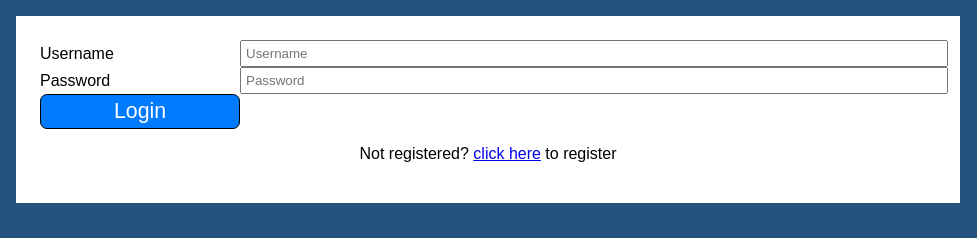
Test: LoginScreen › shows a validation error and does not log in for a short username
In the field labelled "Username": (594, 54) [240,40,948,67], type "ab"
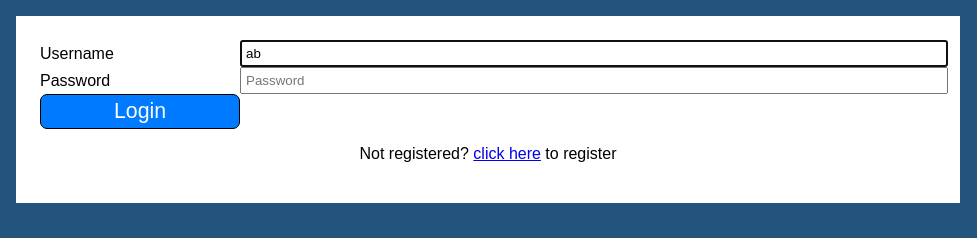
In the password field labelled "Password": (594, 80) [240,67,948,94], type "password123"
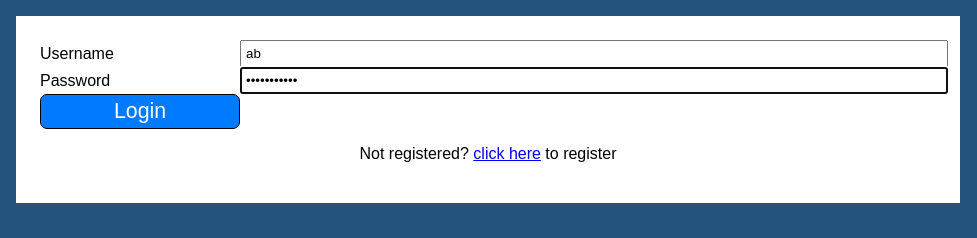
Click the button "Login": (140, 112) [40,94,240,129]
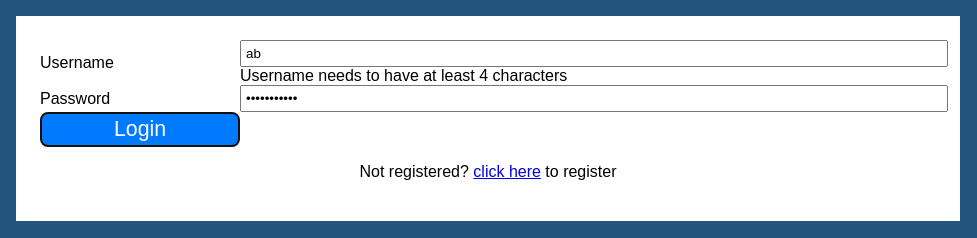
Expected: the text "Username needs to have at least 4 characters" is shown, [240,67,567,84]
